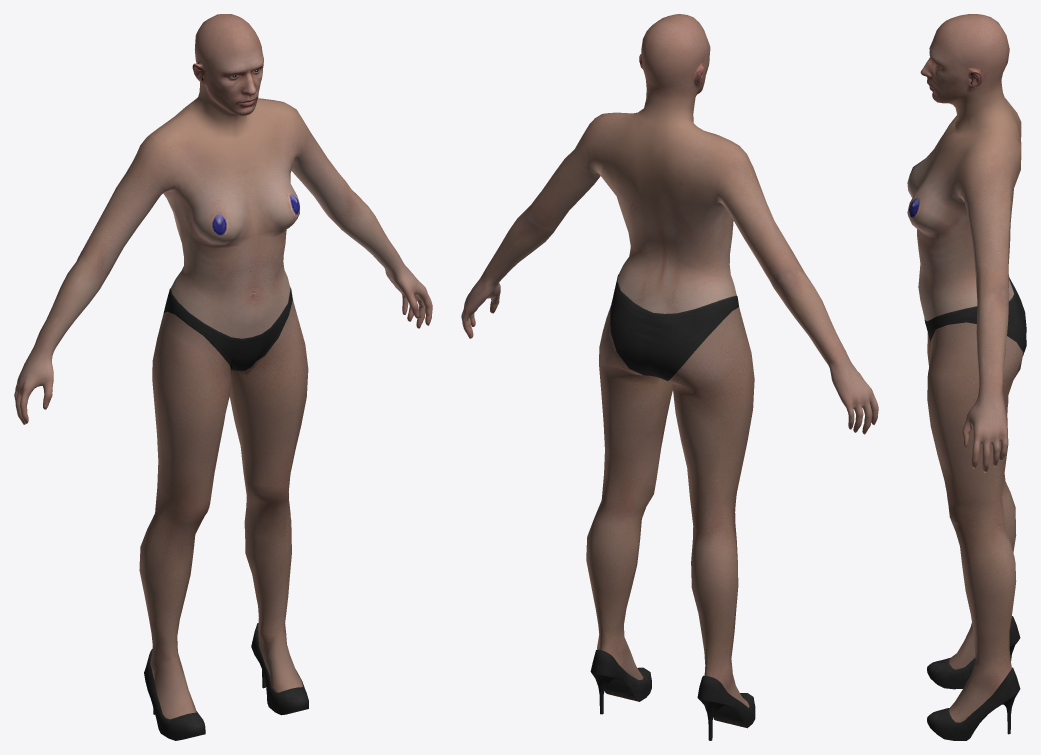
File: female.glb
3 views of the same model, side by side, from view 1: azimuth 30°, elevation 25°; view 2: azimuth 150°, elevation 25°; view 3: azimuth 270°, elevation 25° (orthographic).
Visible parts, largest first — view 1: mp_f_freemode_01; view 2: mp_f_freemode_01; view 3: mp_f_freemode_01.
Boxes of the visible parts, x1=… form: mp_f_freemode_01: x1=14, y1=14, x2=432, y2=740; mp_f_freemode_01: x1=461, y1=14, x2=878, y2=740; mp_f_freemode_01: x1=907, y1=14, x2=1026, y2=740.
Bounding box in the file's own units: 1.18 × 1.9 × 0.2977.
4 materials, 4 textured.
